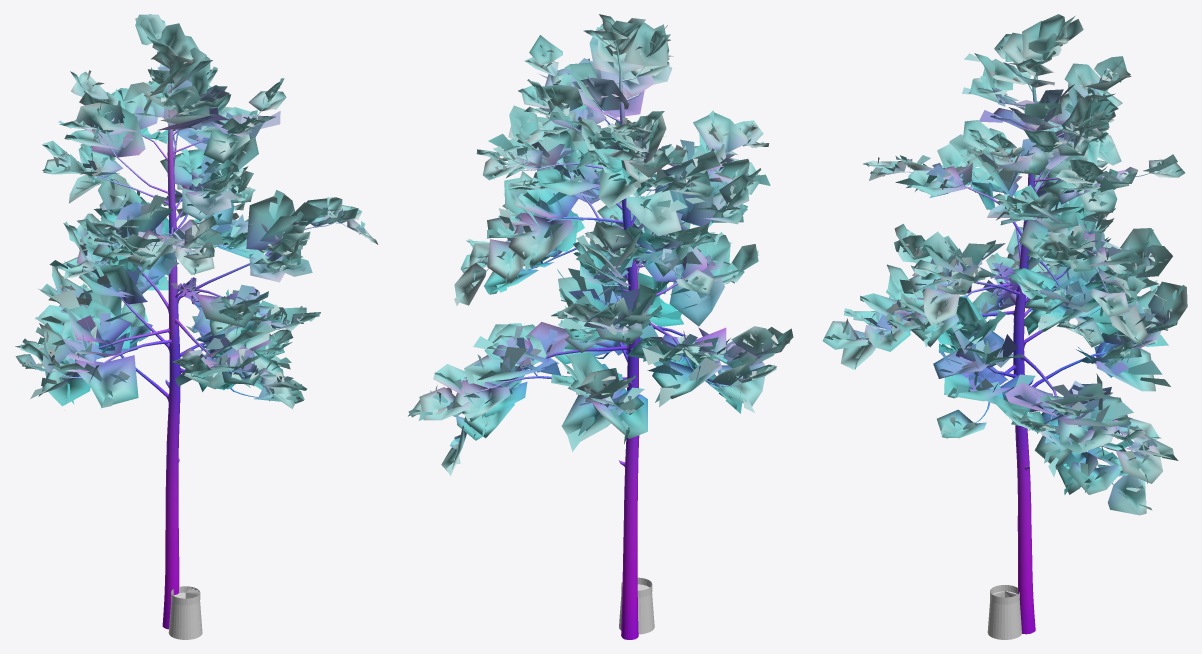
Rendered from KIT_PineLarge2.fbx.
3 views of the same model, side by side, from view 1: azimuth 30°, elevation 25°; view 2: azimuth 150°, elevation 25°; view 3: azimuth 270°, elevation 25° (orthographic). The views are drawn at different scales.
Visible parts, largest first — view 1: Upper_LOD0, Stump_LOD0; view 2: Upper_LOD0, Stump_LOD0; view 3: Upper_LOD0, Stump_LOD0.
Boxes of the visible parts, left/top/right/bottom form: Upper_LOD0: left=15, top=14, right=378, bottom=629; Stump_LOD0: left=168, top=593, right=202, bottom=639; Upper_LOD0: left=408, top=14, right=793, bottom=639; Stump_LOD0: left=619, top=584, right=654, bottom=634; Upper_LOD0: left=822, top=14, right=1187, bottom=634; Stump_LOD0: left=987, top=592, right=1021, bottom=639.
Size of what is drawn, in the model's own units: 961 by 1742 by 944.
